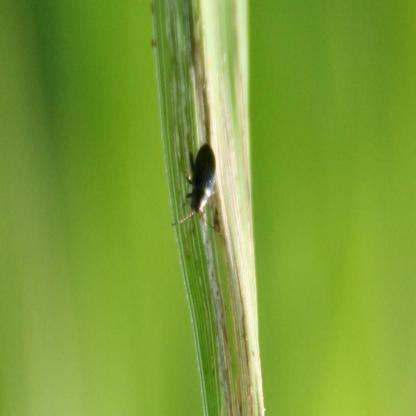rice-bug: (182, 144, 219, 222)
